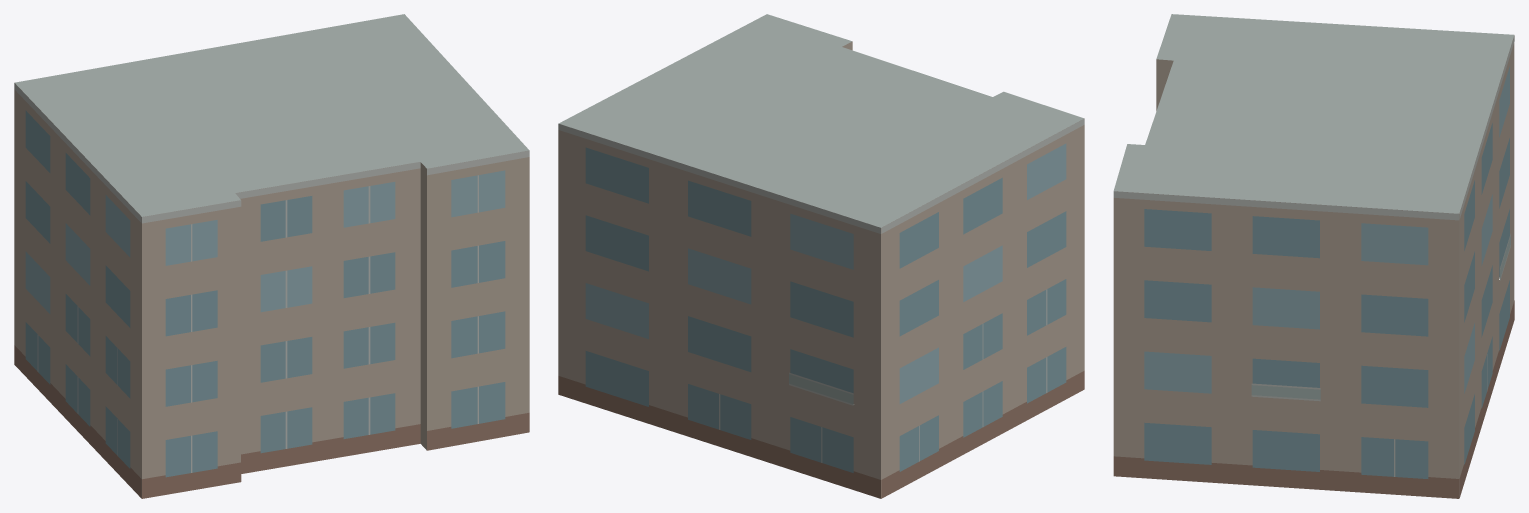
The model's file is survey-upis-32756396.glb.
The picture shows the model from 3 angles, left to right: view 1: azimuth 30°, elevation 25°; view 2: azimuth 150°, elevation 25°; view 3: azimuth 270°, elevation 25°; orthographic projection. The views are drawn at different scales.
Parts seen in each view (by area): view 1: survey-upis-32756396.tmp; view 2: survey-upis-32756396.tmp; view 3: survey-upis-32756396.tmp.
Boxes of the visible parts, x1,y1,x2,y2 form: survey-upis-32756396.tmp: (14,14,529,498); survey-upis-32756396.tmp: (558,14,1084,498); survey-upis-32756396.tmp: (1113,14,1514,498).
Bounding box in the file's own units: 15.79 × 10.5 × 13.39.
